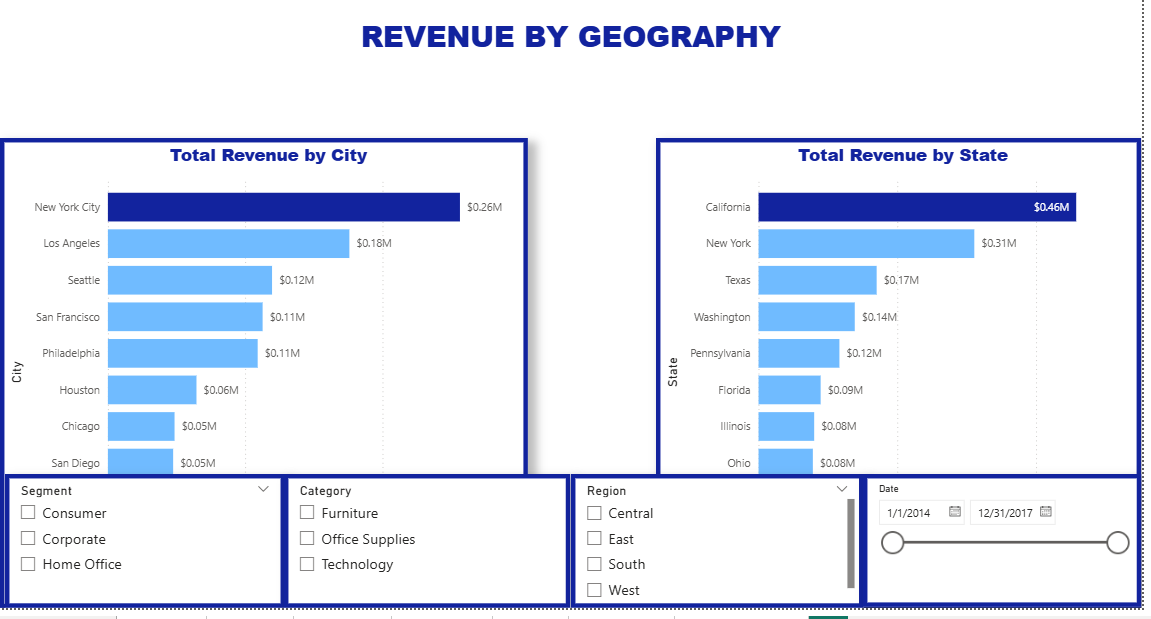

The page's visual inventory and layout, read from the dashboard file:
{"tool":"powerbi","page":{"name":"Geography","canvas":[1280,720],"ordinal":3},"visuals":[{"type":"clusteredBarChart","fields":{"Category":["Orders.City"],"Y":["Dates.Total Revenue"]},"box":[0,193.3,592,526.7],"z":0},{"type":"clusteredBarChart","fields":{"Category":["Orders.State"],"Y":["Dates.Total Revenue"]},"box":[736,193.3,544,526.7],"z":1000},{"type":"textbox","box":[0,50.7,1280,76],"z":2000},{"type":"slicer","fields":{"Values":["Orders.Segment"]},"box":[5.1,569.3,313.6,150.4],"z":3000},{"type":"slicer","fields":{"Values":["Orders.Category"]},"box":[318.7,569.3,321.3,150.4],"z":4000},{"type":"slicer","fields":{"Values":["Orders.Region"]},"box":[640,569.3,327.7,150.4],"z":5000},{"type":"slicer","fields":{"Values":["Dates.Date"]},"box":[967.7,569.3,312.3,149.1],"z":6000}]}

Visuals, with their boxes on the page's 1280x720 design canvas (x1, y1, x2, y2). These are canvas units, not pixel positions in the 1151x619 screenshot, which may show the page scaled, cropped or inside an application window:
clusteredBarChart - Orders.City x Dates.Total Revenue: (left=0, top=193, right=592, bottom=720)
clusteredBarChart - Orders.State x Dates.Total Revenue: (left=736, top=193, right=1280, bottom=720)
textbox: (left=0, top=51, right=1280, bottom=127)
slicer - Orders.Segment: (left=5, top=569, right=319, bottom=720)
slicer - Orders.Category: (left=319, top=569, right=640, bottom=720)
slicer - Orders.Region: (left=640, top=569, right=968, bottom=720)
slicer - Dates.Date: (left=968, top=569, right=1280, bottom=718)
